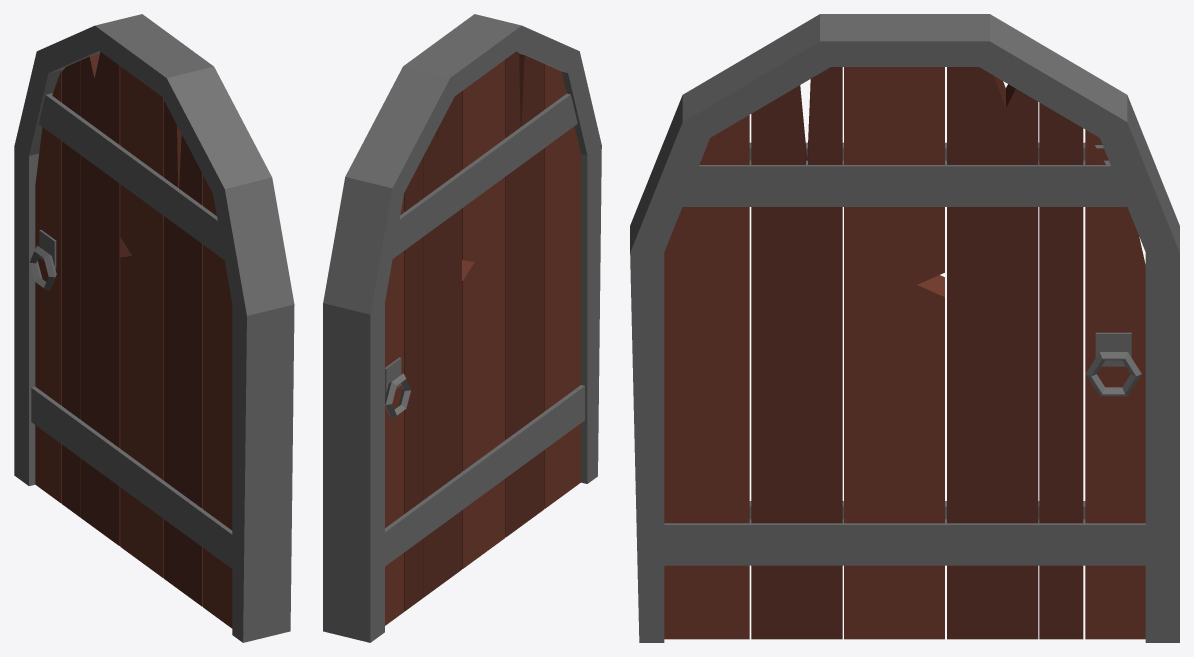
The model's file is door.fbx.
3 views of the same model, side by side, from view 1: azimuth 30°, elevation 25°; view 2: azimuth 150°, elevation 25°; view 3: azimuth 270°, elevation 25° (orthographic). The views are drawn at different scales.
Visible parts, largest first — view 1: door; view 2: door; view 3: door.
Part boxes in pixels (box(x1,y1,x2,y2)): door: box(14, 14, 294, 642); door: box(323, 14, 601, 642); door: box(630, 14, 1179, 642).
Bounding box in the file's own units: 29.88 × 266 × 220.
